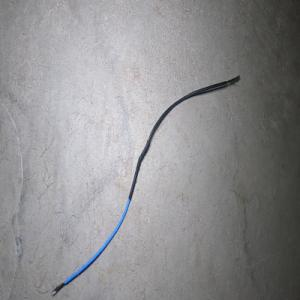Wire: (51, 74, 241, 296)
